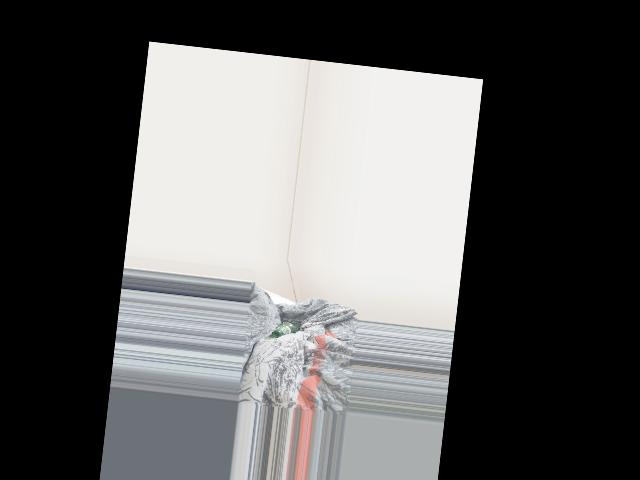beer: (271, 318, 301, 340)
